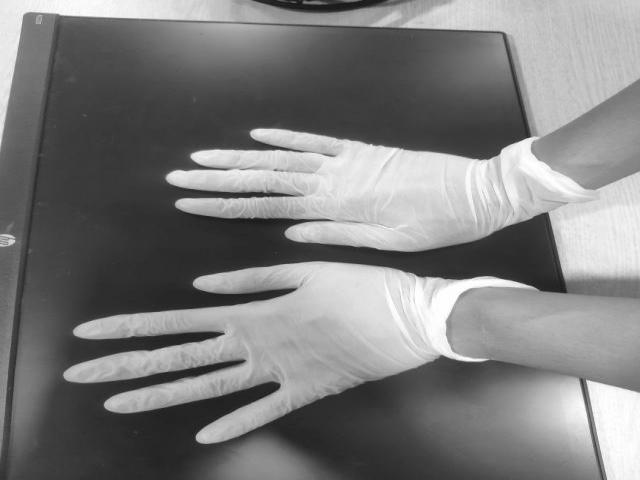gloved: (64, 258, 432, 444), (163, 124, 497, 254)
